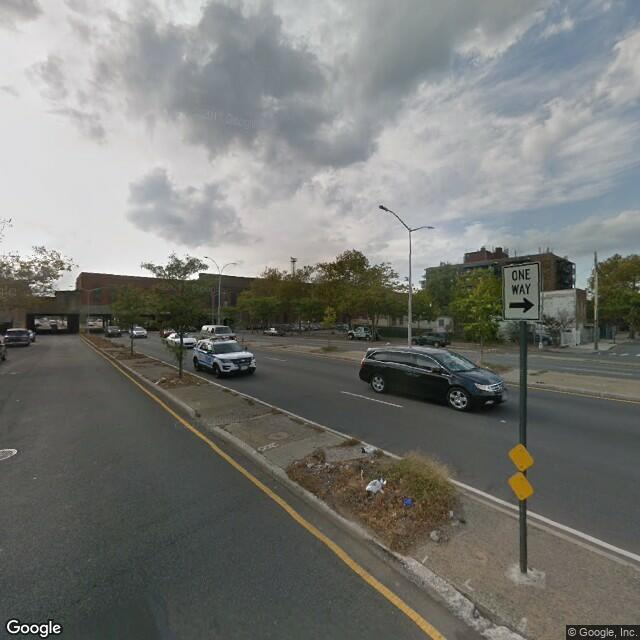litter: (364, 477, 389, 495), (400, 494, 416, 511), (366, 453, 380, 470)
